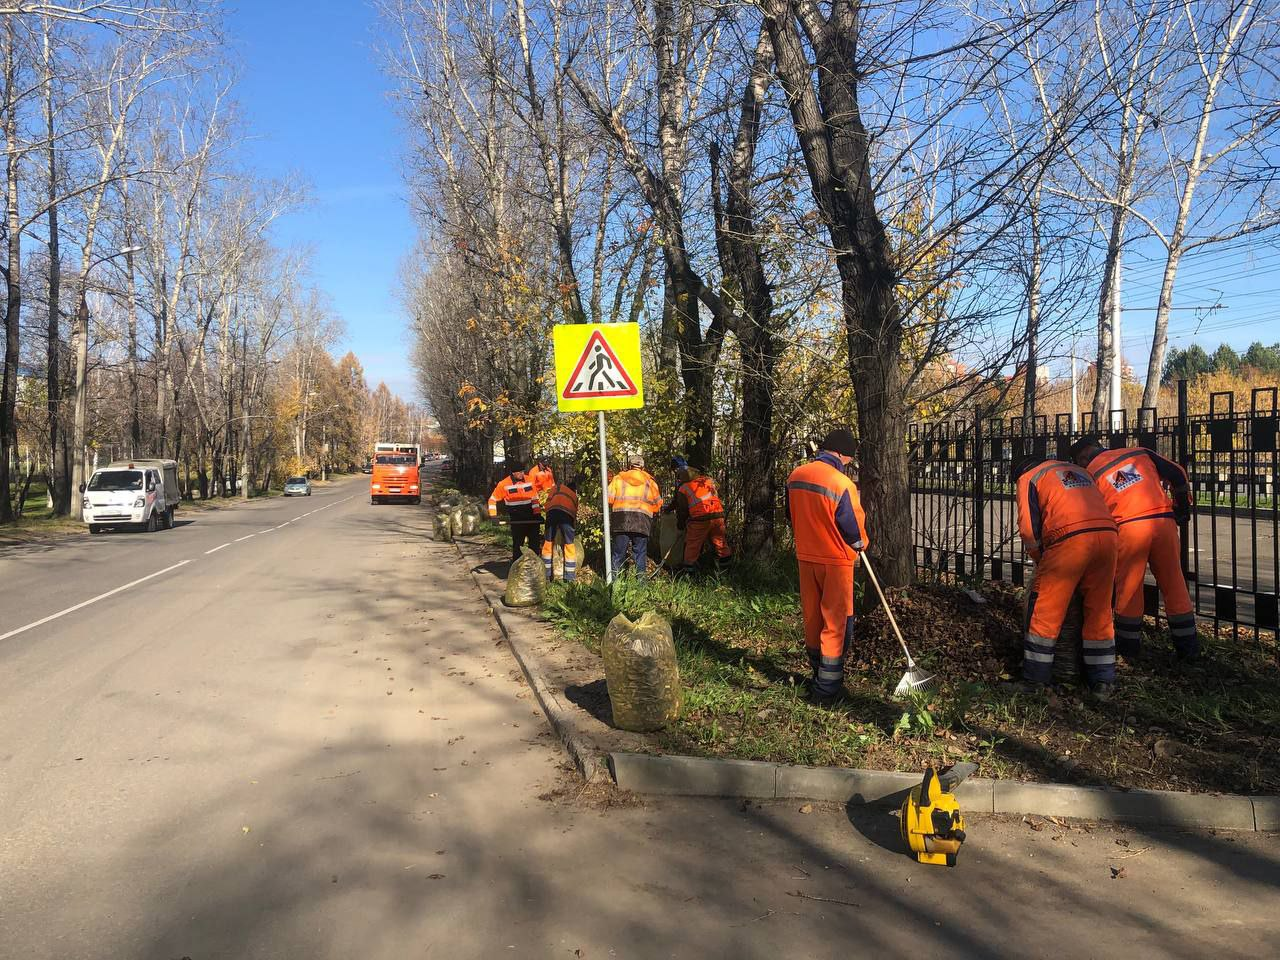sign: (545, 313, 651, 414)
